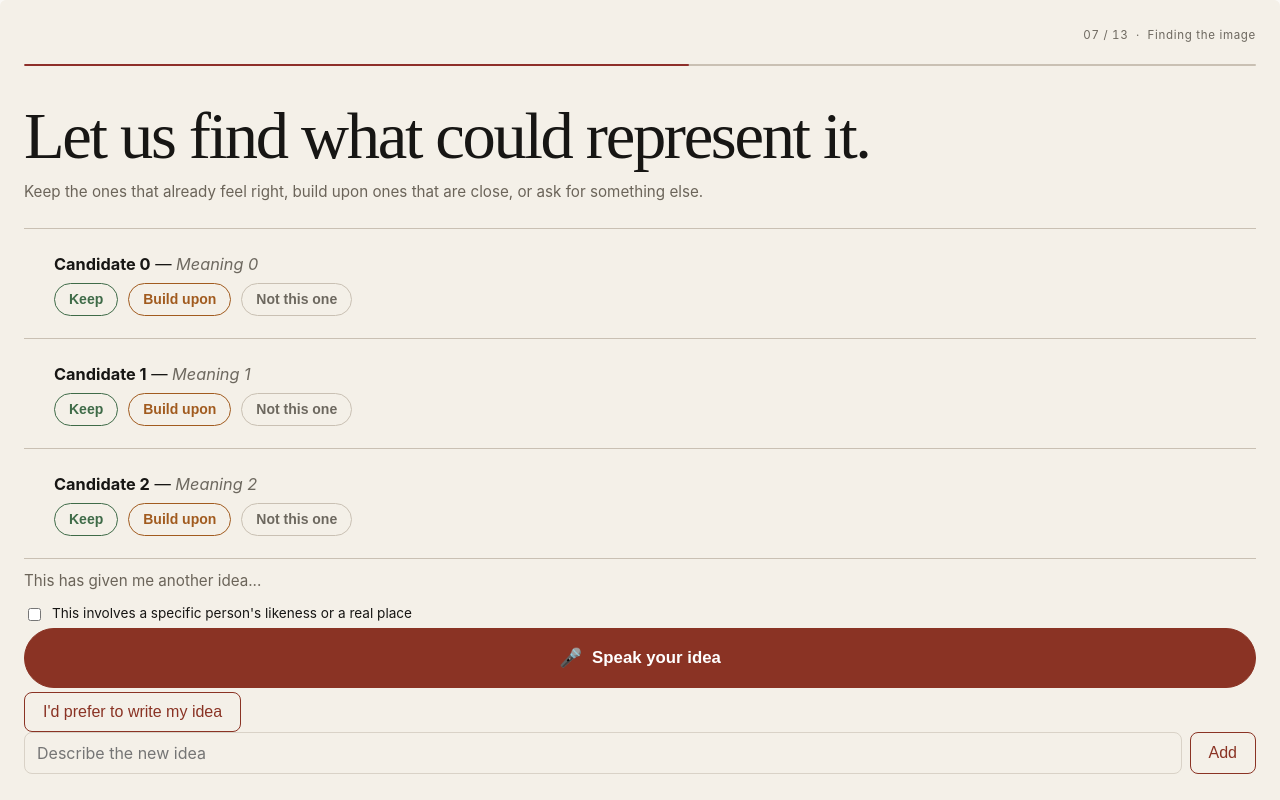
Test case: ElementsDiscovery -- Keep / Build upon / Not this one, non-destructive per-slot history › Build upon marks a candidate active independently of Keep
Click the button "Build upon" below "Candidate 1": (180, 410) [128,393,231,426]
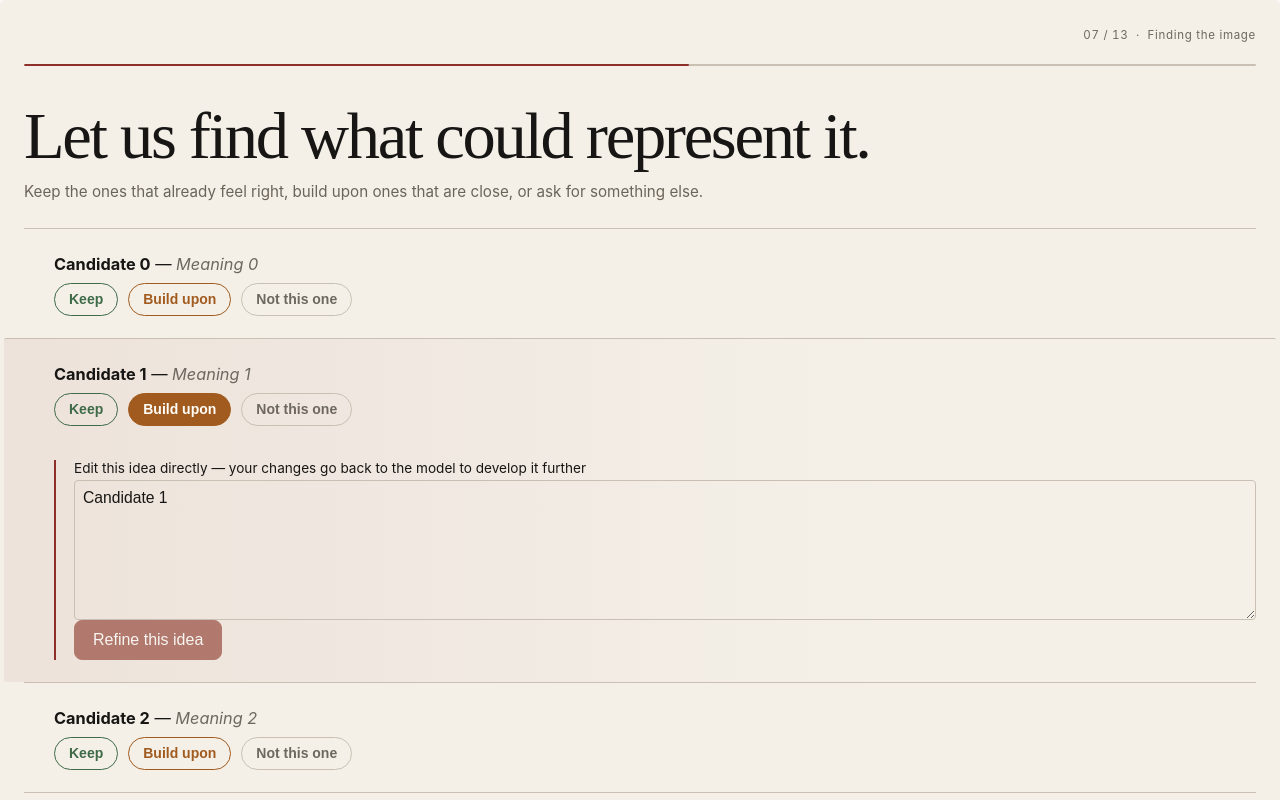
Now the button "Build upon" below "Candidate 1" has class "active", box [128,393,231,426]
